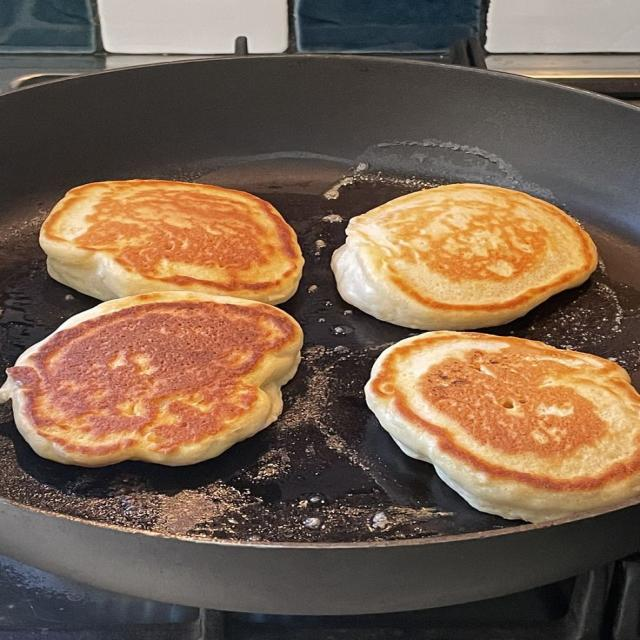pancake: (0, 292, 302, 466), (366, 331, 639, 521), (332, 184, 597, 330), (40, 180, 303, 304)
